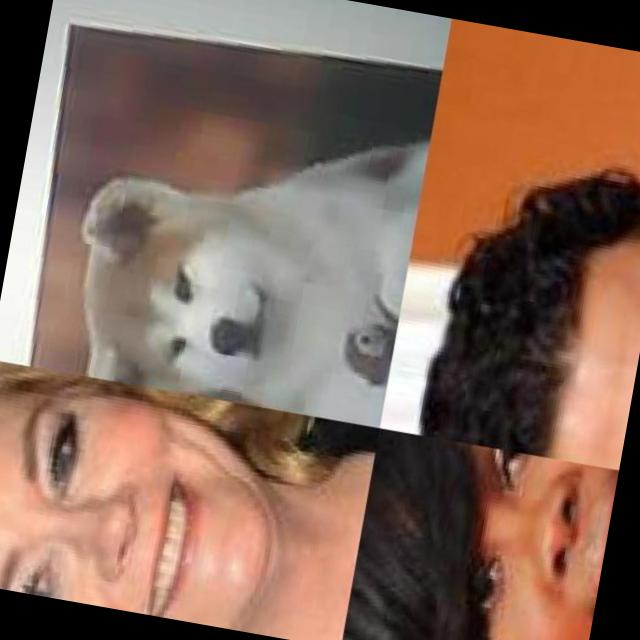bareface: (0, 366, 369, 640)
